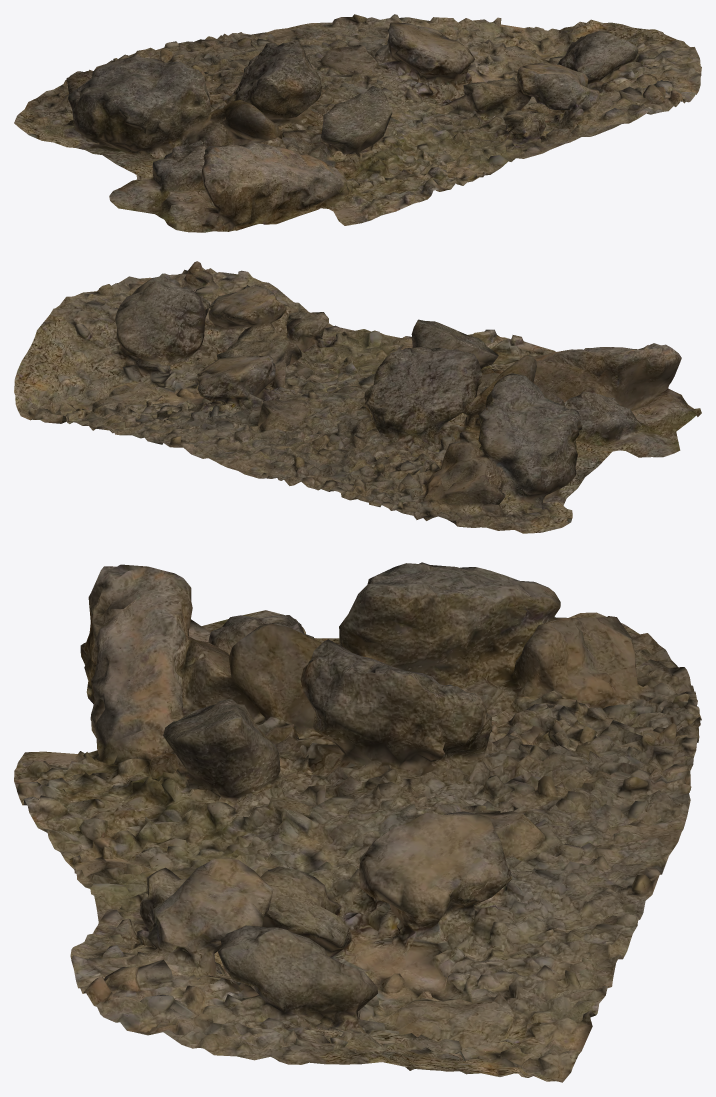
File: coast_land_rocks_03.glb
The picture shows the model from 3 angles, top to bottom: view 1: azimuth 30°, elevation 25°; view 2: azimuth 150°, elevation 25°; view 3: azimuth 270°, elevation 25°; orthographic projection. The views are drawn at different scales.
Parts seen in each view (by area): view 1: coast_land_rocks_03; view 2: coast_land_rocks_03; view 3: coast_land_rocks_03.
Boxes of the visible parts, box(x1,y1,x2,y2) form: coast_land_rocks_03: box(14, 14, 701, 232); coast_land_rocks_03: box(14, 261, 701, 533); coast_land_rocks_03: box(14, 562, 701, 1082).
Bounding box in the file's own units: 8.97 × 1.53 × 5.63.
Materials: 1 (1 with a texture image).
